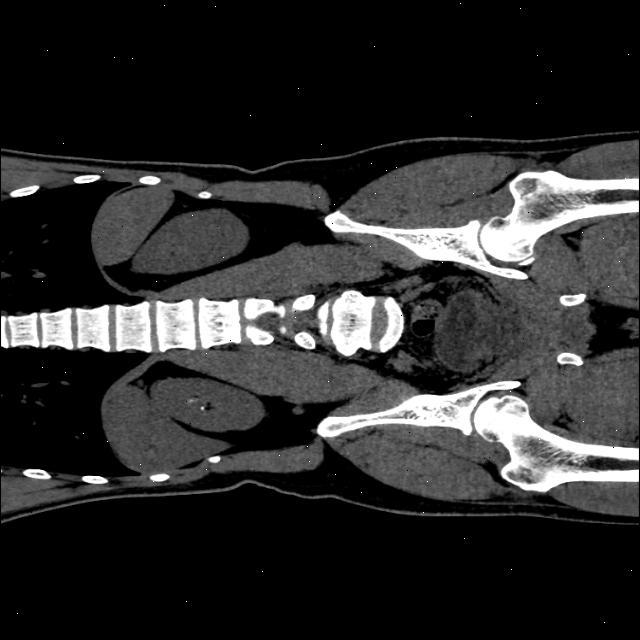kidneystone: (200, 402, 208, 411)
